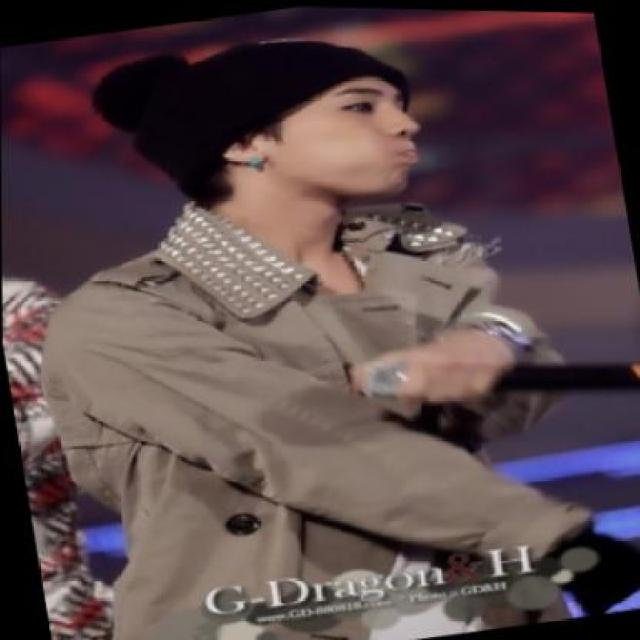hat: (94, 36, 412, 183)
